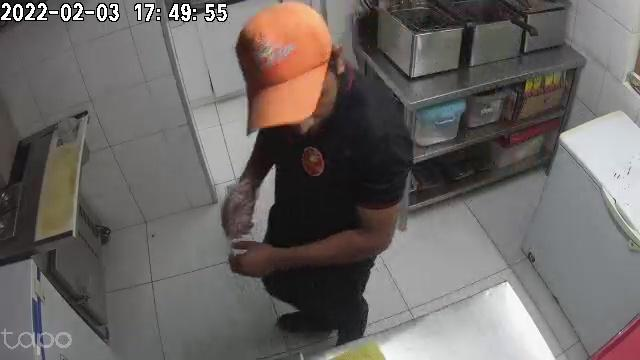gloves: (222, 174, 261, 237)
no_gloves: (229, 241, 288, 275)
